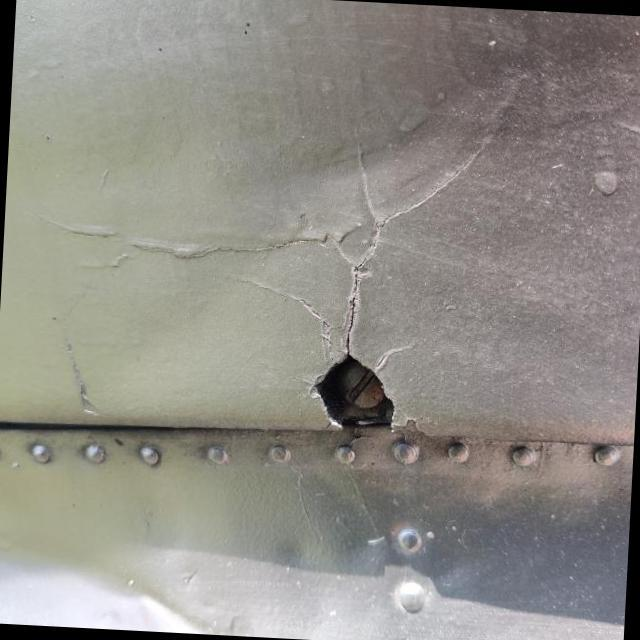Rupture: (233, 102, 521, 452)
